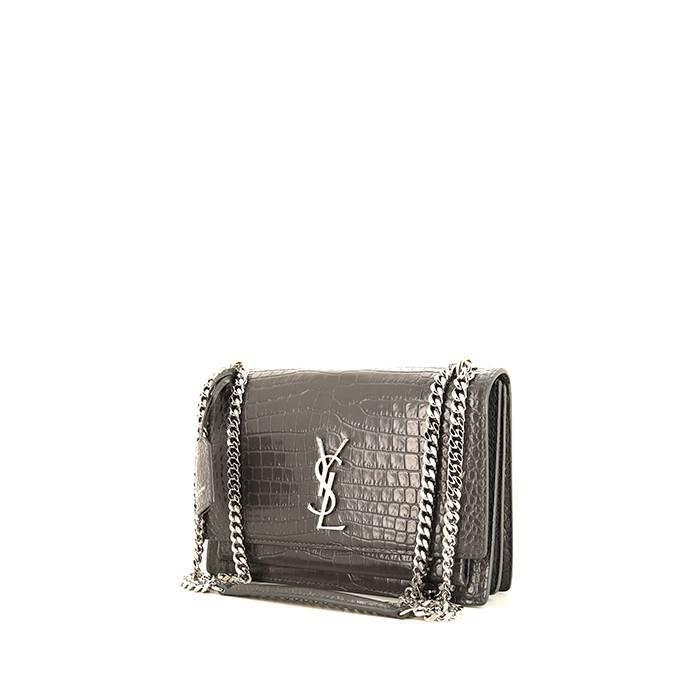YVES-SAINT-LAURENT: (307, 437, 350, 531)
